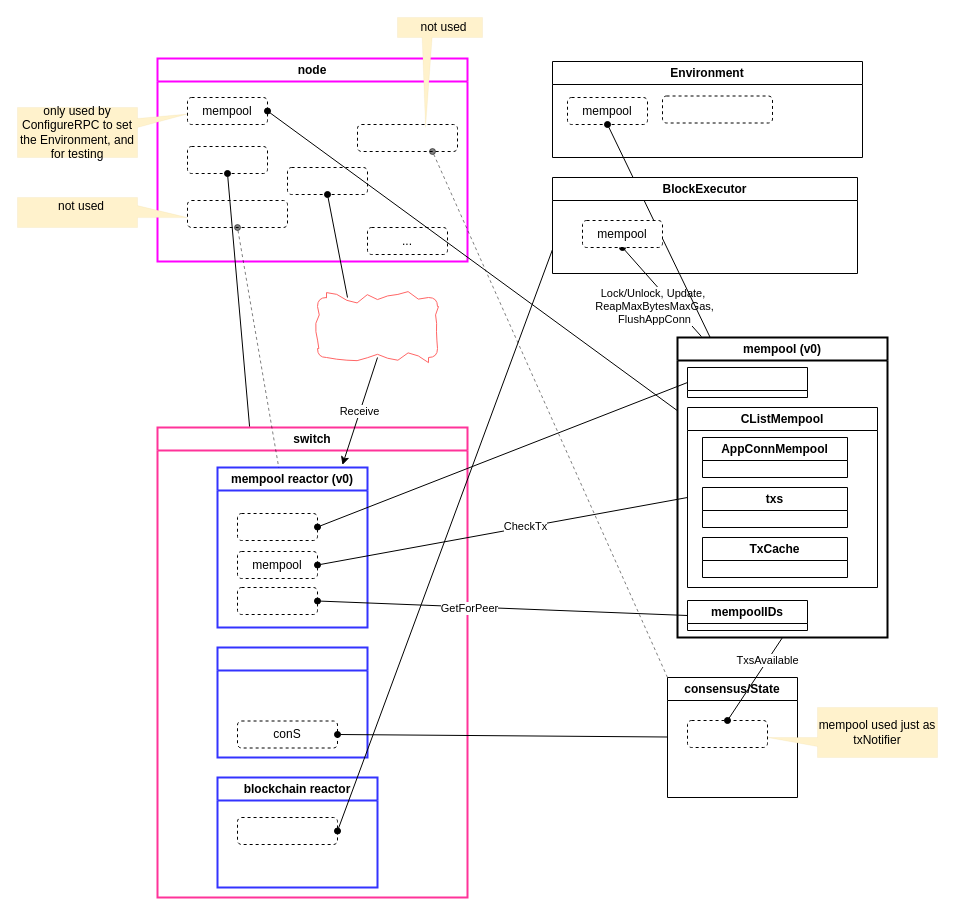
Some shapes in this 954 by 915 pixel diagram are drawn without their labels. The shapes that lost their labels are listed below. From the top down, each one's centre as x and y in pixels, then its label:
At point 717,109: "consensusReactor".
At point 407,138: "consensusState".
At point 227,160: "sw".
At point 327,180: "transport".
At point 237,214: "mempoolReactor".
At point 377,327: "peer connection".
At point 747,382: "MempoolConfig".
At point 277,526: "config".
At point 277,600: "ids".
At point 292,702: "consensus reactor".
At point 727,734: "txNotifier".
At point 287,830: "blockExec".
